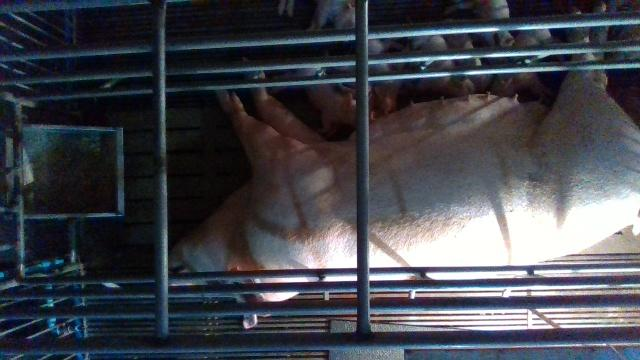piglet: (275, 67, 358, 136), (490, 30, 558, 95), (412, 36, 475, 98), (276, 0, 355, 33), (369, 39, 402, 115), (479, 1, 515, 47)
sow-sleep-lactate: (169, 28, 640, 328)
